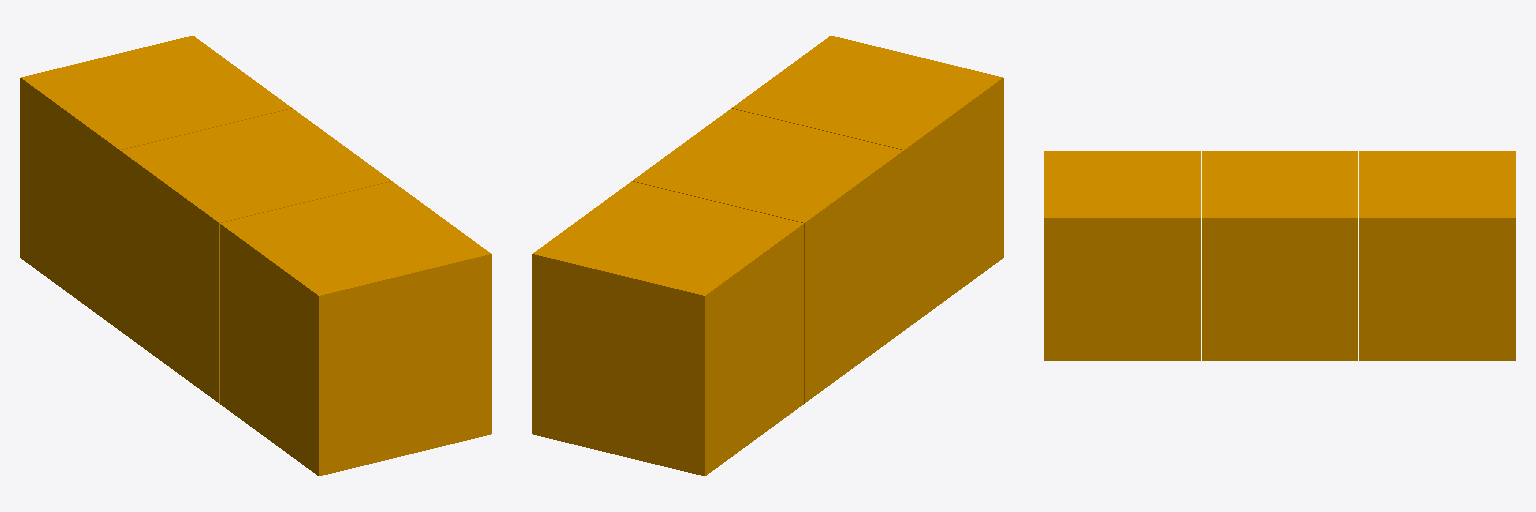
URDF robot description (glued_piece_3):
<?xml version="1.0"?>
<!-- Original Author: OpenAI Codex, 2026. One rigid link; local +Y is the glued bar axis. -->
<robot name="glued_piece_3"><link name="piece">
<inertial><mass value="0.30720000000000003"/><inertia ixx="0.0016384000000000001" ixy="0" ixz="0" iyy="0.00032768000000000006" iyz="0" izz="0.0016384000000000001"/></inertial>
<visual><origin xyz="0 -0.080000 0"/><geometry><box size="0.08 0.0796 0.08"/></geometry></visual>
<visual><origin xyz="0 0.000000 0"/><geometry><box size="0.08 0.0796 0.08"/></geometry></visual>
<visual><origin xyz="0 0.080000 0"/><geometry><box size="0.08 0.0796 0.08"/></geometry></visual>
<collision><geometry><box size="0.08 0.24 0.08"/></geometry></collision>
</link></robot>

--- Facts derived from the render (not from the file) ---
Views: 3 orthographic renders of the robot side by side, from view 1: azimuth 30°, elevation 25°; view 2: azimuth 150°, elevation 25°; view 3: azimuth 270°, elevation 25°.
Robot: glued_piece_3 — 1 links, 0 joints (none); root link piece; default pose: every joint at zero.
Links seen in each view (by area): view 1: piece; view 2: piece; view 3: piece.
Link boxes in pixels (x1,y1,x2,y2): piece: [20, 36, 491, 475]; piece: [532, 36, 1003, 475]; piece: [1044, 151, 1515, 360].
Bounding box of the posed robot: 0.08 × 0.2396 × 0.08 m (x, y, z).
Geometry: primitives only (box / cylinder / sphere), no mesh files.
